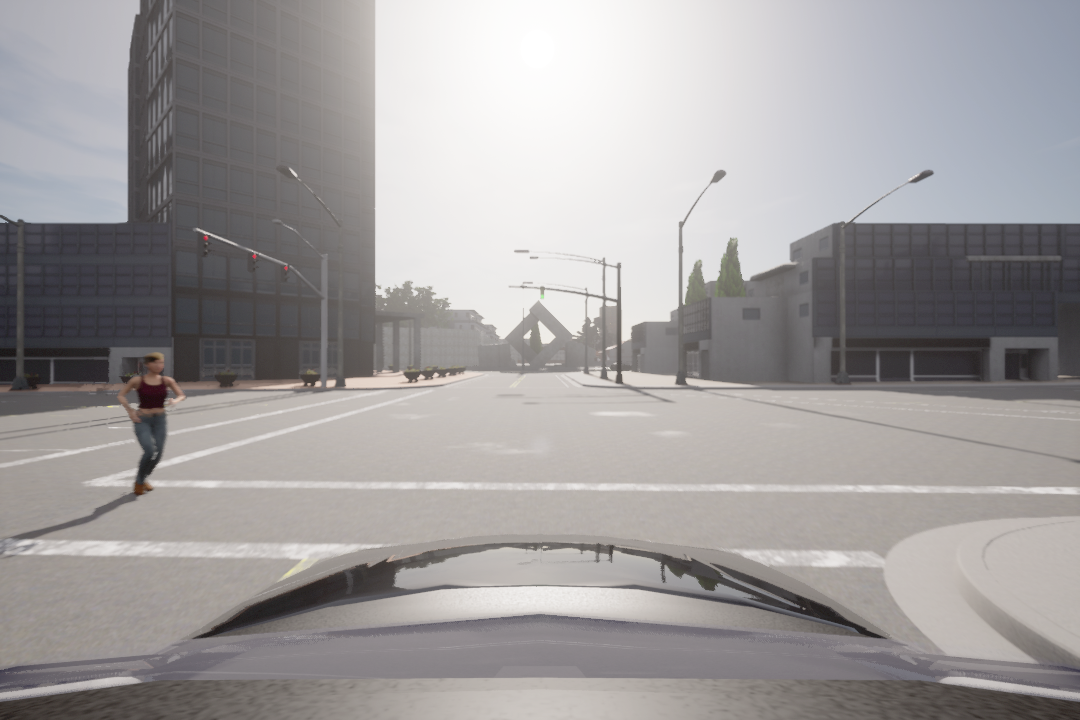TrafficLight: (275, 262, 293, 287), (246, 249, 258, 274), (198, 234, 210, 257), (539, 285, 547, 302)
